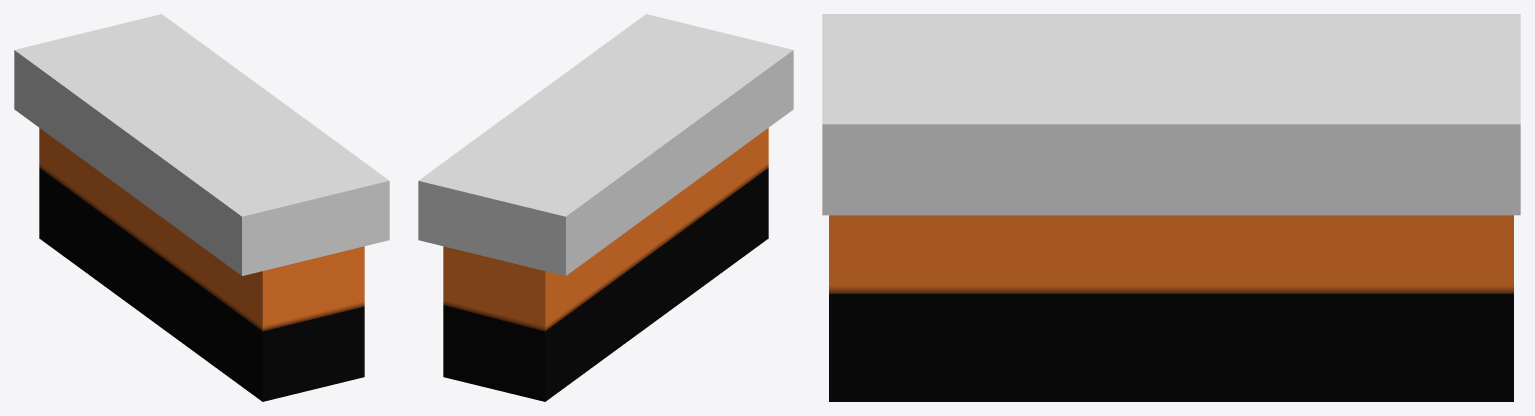
File: barra.obj
The picture shows the model from 3 angles, left to right: view 1: azimuth 30°, elevation 25°; view 2: azimuth 150°, elevation 25°; view 3: azimuth 270°, elevation 25°; orthographic projection. The views are drawn at different scales.
Visible parts, largest first — view 1: pCube3; view 2: pCube3; view 3: pCube3.
Boxes of the visible parts, box(x1,y1,x2,y2) form: pCube3: box(14, 14, 389, 401); pCube3: box(418, 14, 793, 401); pCube3: box(822, 14, 1520, 401).
Bounding box in the file's own units: 2.56 × 3.19 × 6.84.
